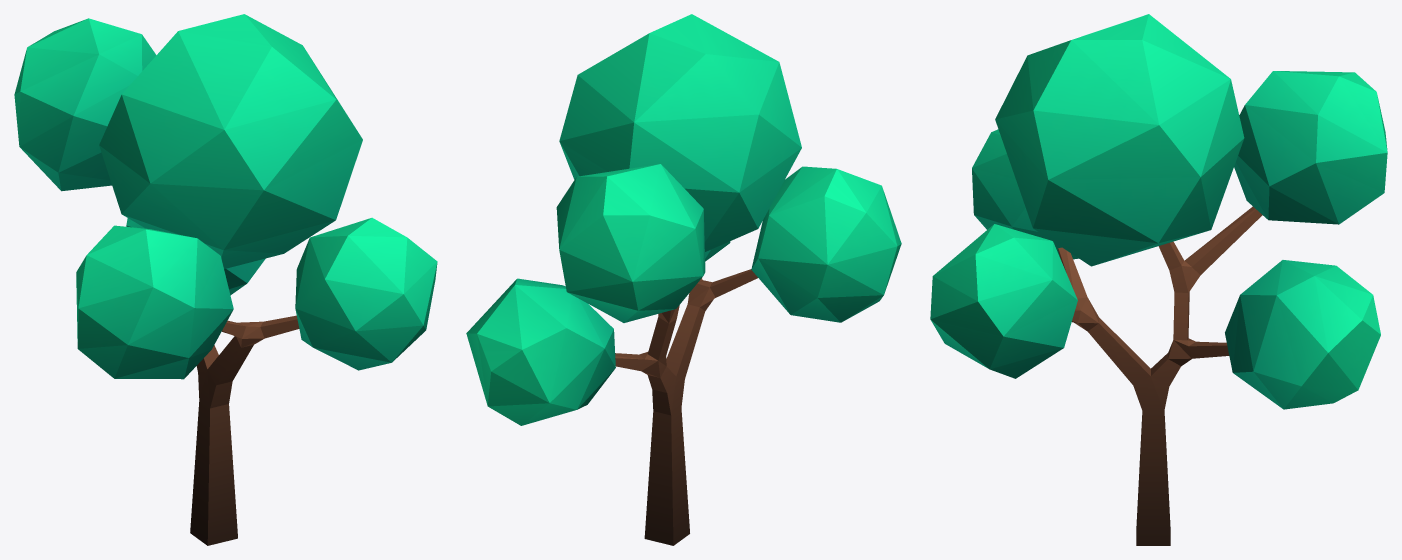
Rendered from VEG0210036.fbx.
The picture shows the model from 3 angles, left to right: view 1: azimuth 30°, elevation 25°; view 2: azimuth 150°, elevation 25°; view 3: azimuth 270°, elevation 25°; orthographic projection. The views are drawn at different scales.
Visible parts, largest first — view 1: smVEG0210036; view 2: smVEG0210036; view 3: smVEG0210036.
Boxes of the visible parts, x1,y1,x2,y2 form: smVEG0210036: (14,14,437,545); smVEG0210036: (466,14,901,545); smVEG0210036: (930,14,1387,545).
Bounding box in the file's own units: 371 × 552 × 448.
